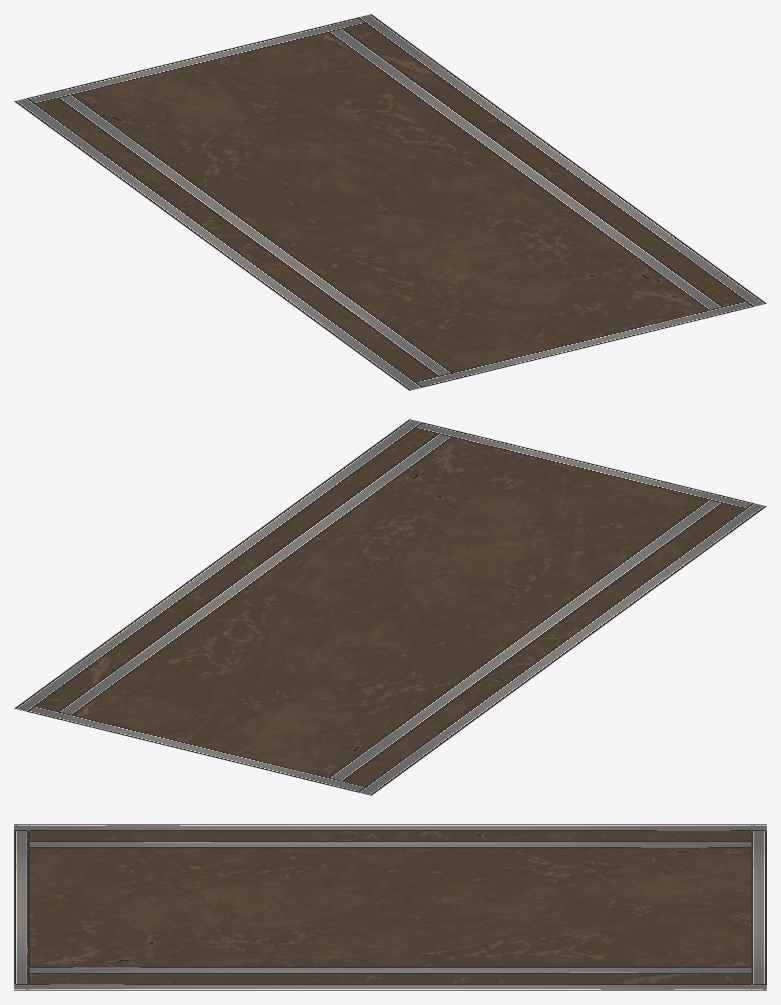
The model's file is my_highlander_01_carpet_01.glb.
The picture shows the model from 3 angles, top to bottom: view 1: azimuth 30°, elevation 25°; view 2: azimuth 150°, elevation 25°; view 3: azimuth 270°, elevation 25°; orthographic projection. The views are drawn at different scales.
Visible parts, largest first — view 1: my_highlander_01_carpet_01; view 2: my_highlander_01_carpet_01; view 3: my_highlander_01_carpet_01.
Part boxes in pixels (x1,y1,x2,y2): my_highlander_01_carpet_01: (14, 14, 766, 390); my_highlander_01_carpet_01: (14, 419, 766, 795); my_highlander_01_carpet_01: (14, 824, 766, 990).
Size of the model in its own units: 0.0174 by 4.98e-09 by 0.0334.
Materials: 1 (1 with a texture image).
